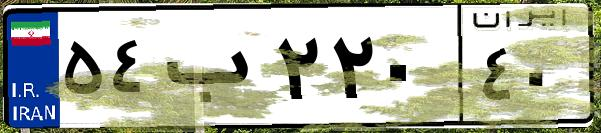0: (385, 28, 445, 110), (525, 38, 570, 115)
2: (270, 28, 330, 110), (330, 28, 385, 110)
4: (475, 38, 525, 113), (110, 28, 158, 98)
5: (57, 26, 110, 100)
ب: (158, 20, 270, 120)
